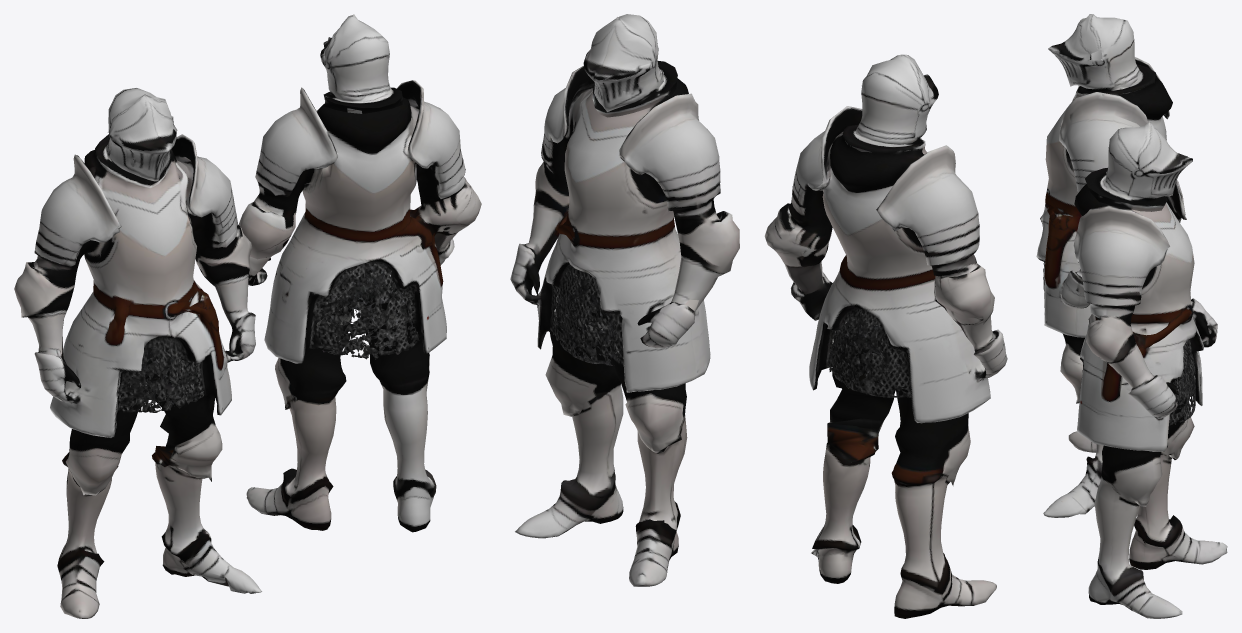
File: tripo_convert_d2129b87-6a52-4c5b-bcdf-91053eb64874.fbx
The picture shows the model from 3 angles, left to right: view 1: azimuth 30°, elevation 25°; view 2: azimuth 150°, elevation 25°; view 3: azimuth 270°, elevation 25°; orthographic projection. The views are drawn at different scales.
Visible parts, largest first — view 1: tripo_node_d2129b87; view 2: tripo_node_d2129b87; view 3: tripo_node_d2129b87.
Boxes of the visible parts, bbox=[...] form: tripo_node_d2129b87: bbox=[14, 14, 481, 618]; tripo_node_d2129b87: bbox=[510, 14, 1007, 618]; tripo_node_d2129b87: bbox=[1036, 14, 1227, 618].
Bounding box in the file's own units: 0.8977 × 0.9669 × 0.3621.
Materials: 1 (1 with a texture image).
